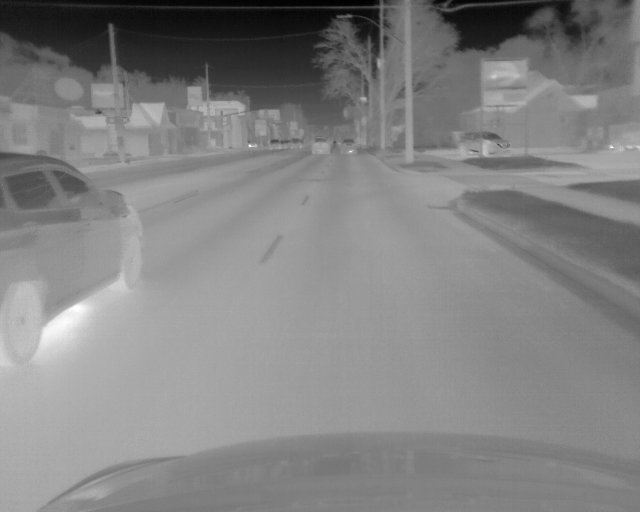car: (1, 151, 145, 367), (458, 130, 512, 157), (311, 136, 331, 155), (340, 138, 357, 155), (269, 139, 280, 150), (290, 139, 302, 149), (280, 140, 289, 150)
